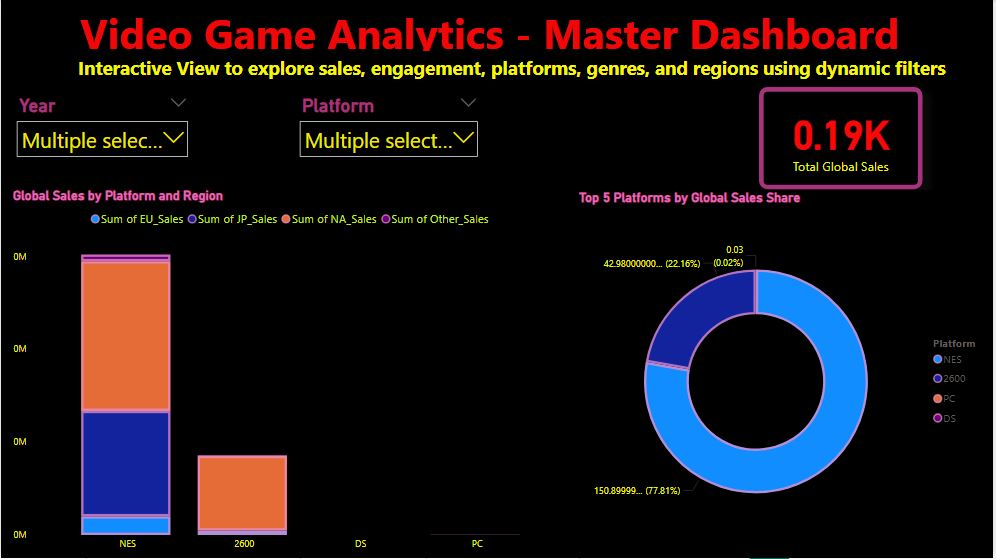

The dashboard page shown, as its layout file describes it:
{"tool":"powerbi","page":{"name":"Overview","canvas":[1280,720],"ordinal":0},"visuals":[{"type":"textbox","box":[10.7,0,1240.7,93],"z":0},{"type":"textbox","box":[39.3,66.1,1240.7,51.8],"z":1000},{"type":"slicer","fields":{"Values":["video_game_analysis vgsales_clean.Year"]},"box":[10.7,118,241.3,125.1],"z":2000},{"type":"slicer","fields":{"Values":["video_game_analysis vgsales_clean.Platform"]},"box":[375.4,118,250.3,130.5],"z":3000},{"type":"card","fields":{"Values":["video_game_analysis vgsales_clean.Total Global Sales"]},"box":[977.9,112.6,210.9,132.3],"z":4000},{"type":"columnChart","title":"Global Sales by Platform and Region","fields":{"Category":["video_game_analysis vgsales_clean.Platform"],"Y":["Sum(video_game_analysis vgsales_clean.EU_Sales)","Sum(video_game_analysis vgsales_clean.JP_Sales)","Sum(video_game_analysis vgsales_clean.NA_Sales)","Sum(video_game_analysis vgsales_clean.Other_Sales)"]},"box":[10.7,243.1,729.4,477.3],"z":5000},{"type":"donutChart","title":"Top 5 Platforms by Global Sales Share","fields":{"Category":["video_game_analysis vgsales_clean.Platform"],"Y":["video_game_analysis vgsales_clean.Total Global Sales"]},"box":[740,245,540,475],"z":6000}]}

Visuals, with their boxes in screenshot pixels (x1, y1, x2, y2), scaled from the page's 1280x720 canvas onto the 996x559 screenshot:
textbox: 8/0/974/72
textbox: 31/51/995/92
slicer - video_game_analysis vgsales_clean.Year: 8/92/196/189
slicer - video_game_analysis vgsales_clean.Platform: 292/92/487/193
card - video_game_analysis vgsales_clean.Total Global Sales: 761/87/925/190
"Global Sales by Platform and Region" columnChart: 8/189/576/558
"Top 5 Platforms by Global Sales Share" donutChart: 576/190/995/558
